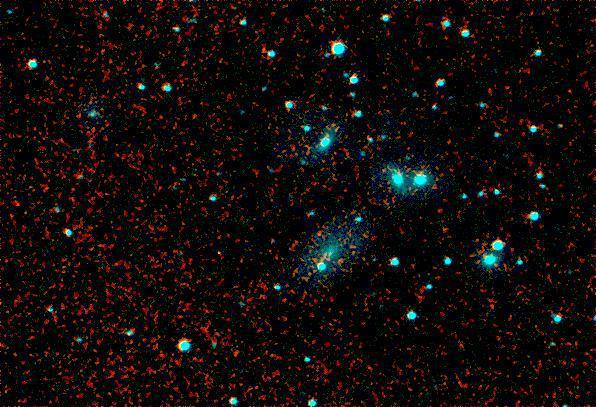star: (303, 216, 333, 246)
